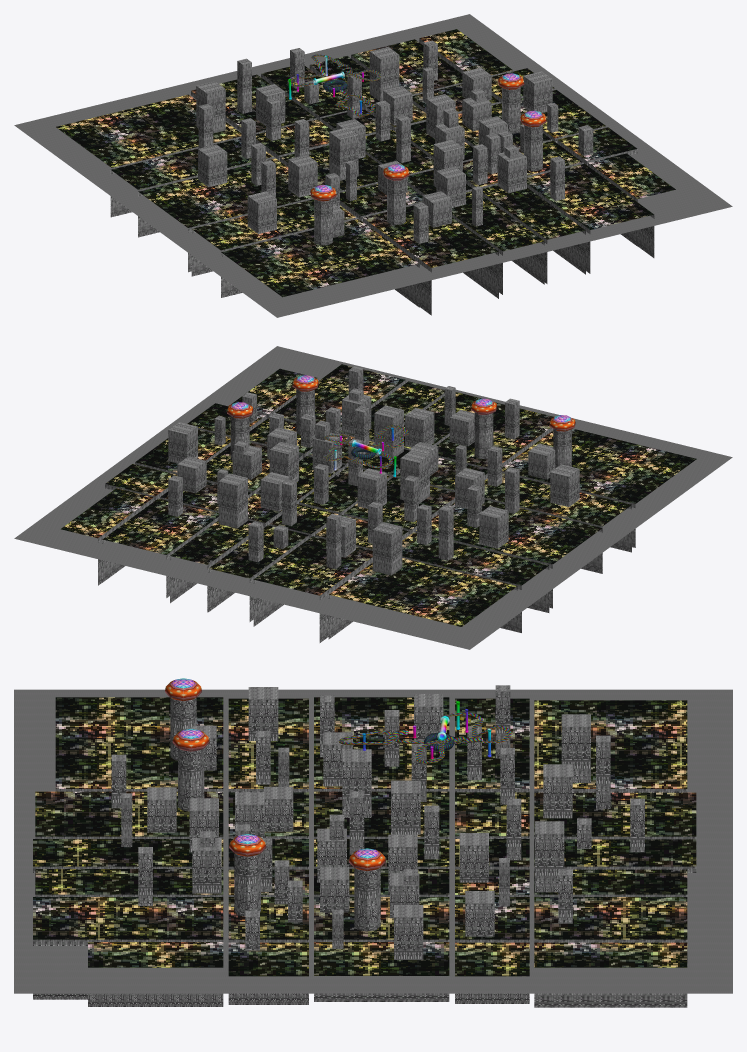
3 views of the same model, one above another, from view 1: azimuth 30°, elevation 25°; view 2: azimuth 150°, elevation 25°; view 3: azimuth 270°, elevation 25° (orthographic). The views are drawn at different scales.
Parts seen in each view (by area): view 1: New_model-SKP--UnderRoad.003, New_model-SKP--UnderRoad.006, New_model-SKP--UnderRoad, New_model-SKP--UnderRoad.011, New_model-SKP--UnderRoad.013; view 2: New_model-SKP--UnderRoad.003, New_model-SKP--UnderRoad.006, New_model-SKP--UnderRoad, New_model-SKP--UnderRoad.011, New_model-SKP--UnderRoad.013; view 3: New_model-SKP--UnderRoad.003, New_model-SKP--UnderRoad.006, New_model-SKP--UnderRoad, New_model-SKP--UnderRoad.011, New_model-SKP--UnderRoad.013, New_model-SKP--UnderRoad.012.
Part boxes in pixels (<box>): New_model-SKP--UnderRoad.003: <box>56,29,675,297</box>; New_model-SKP--UnderRoad.006: <box>110,38,654,315</box>; New_model-SKP--UnderRoad: <box>14,14,732,317</box>; New_model-SKP--UnderRoad.011: <box>310,73,546,201</box>; New_model-SKP--UnderRoad.013: <box>287,54,380,115</box>; New_model-SKP--UnderRoad.003: <box>61,364,696,626</box>; New_model-SKP--UnderRoad.006: <box>98,366,635,642</box>; New_model-SKP--UnderRoad: <box>14,346,732,649</box>; New_model-SKP--UnderRoad.011: <box>227,375,575,431</box>; New_model-SKP--UnderRoad.013: <box>323,425,408,467</box>; New_model-SKP--UnderRoad.003: <box>33,697,696,976</box>; New_model-SKP--UnderRoad.006: <box>33,685,696,1007</box>; New_model-SKP--UnderRoad: <box>14,689,732,993</box>; New_model-SKP--UnderRoad.011: <box>165,678,385,871</box>; New_model-SKP--UnderRoad.013: <box>339,712,511,762</box>; New_model-SKP--UnderRoad.012: <box>362,701,491,758</box>.
Size of the model in its own units: 521514 by 134636 by 521514.
Materials: 15 (15 with a texture image).
